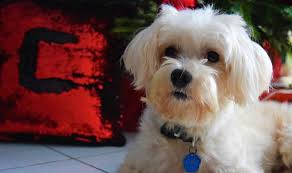dog: (126, 6, 292, 173)
